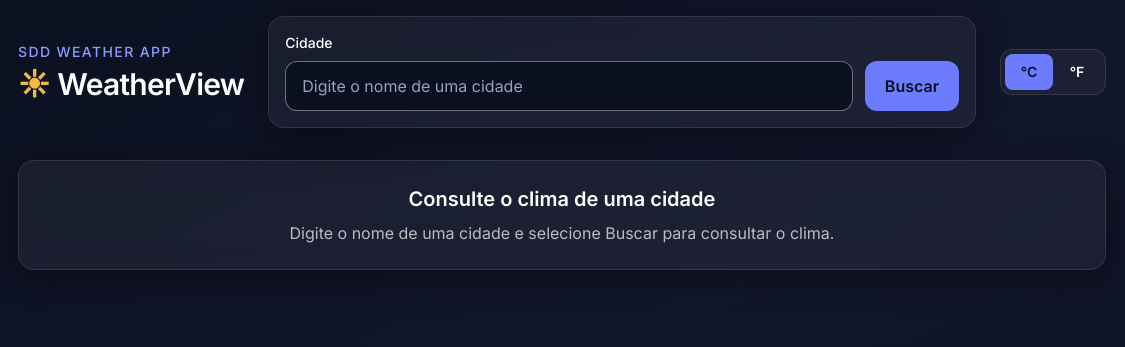
it: App integrado ao serviço (fetch stubado) › mantém erro e retry disponíveis quando a nova tentativa também falha
Type "São Paulo" into the search field.
click(569, 86); type("São Paulo")  # box [285, 61, 853, 111]
Then press Enter
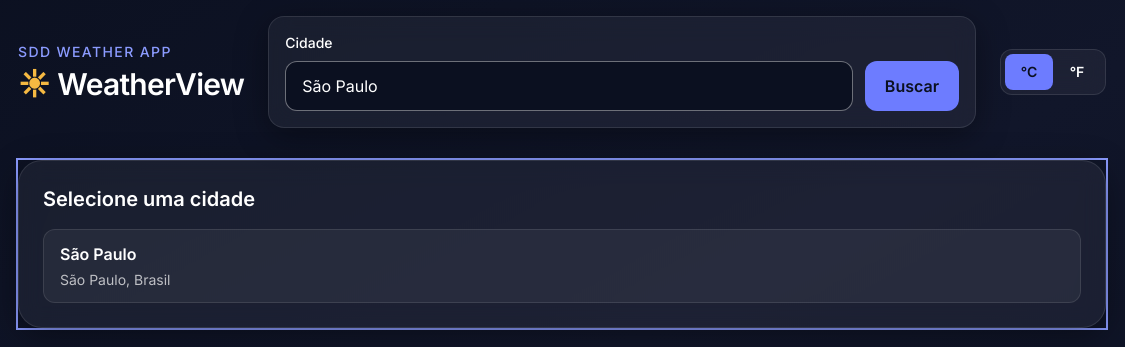
Click the button "São Paulo São Paulo, Brasil".
click(98, 254)  # box [43, 229, 1081, 303]
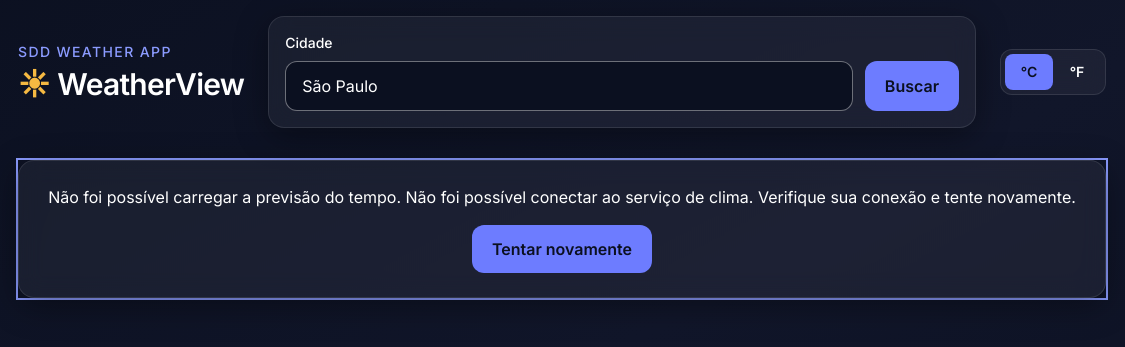
Result: the message shows "Não foi possível carregar a previsão do tempo. Não foi possível conectar ao serviço de clima." at [48, 187, 1076, 207]
Click the button "Tentar novamente".
click(562, 249)  # box [472, 225, 652, 273]
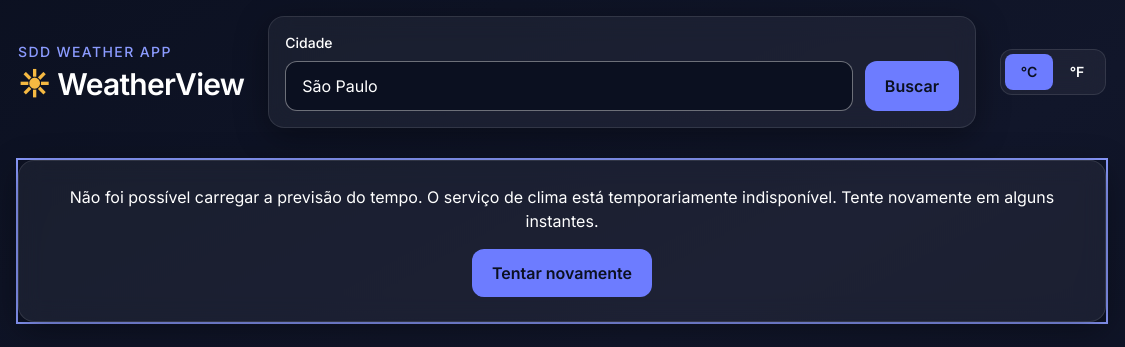
Result: the button "Tentar novamente" is enabled at [472, 249, 652, 297]
Result: the message shows "O serviço de clima está temporariamente indisponível." at [70, 187, 1054, 231]
